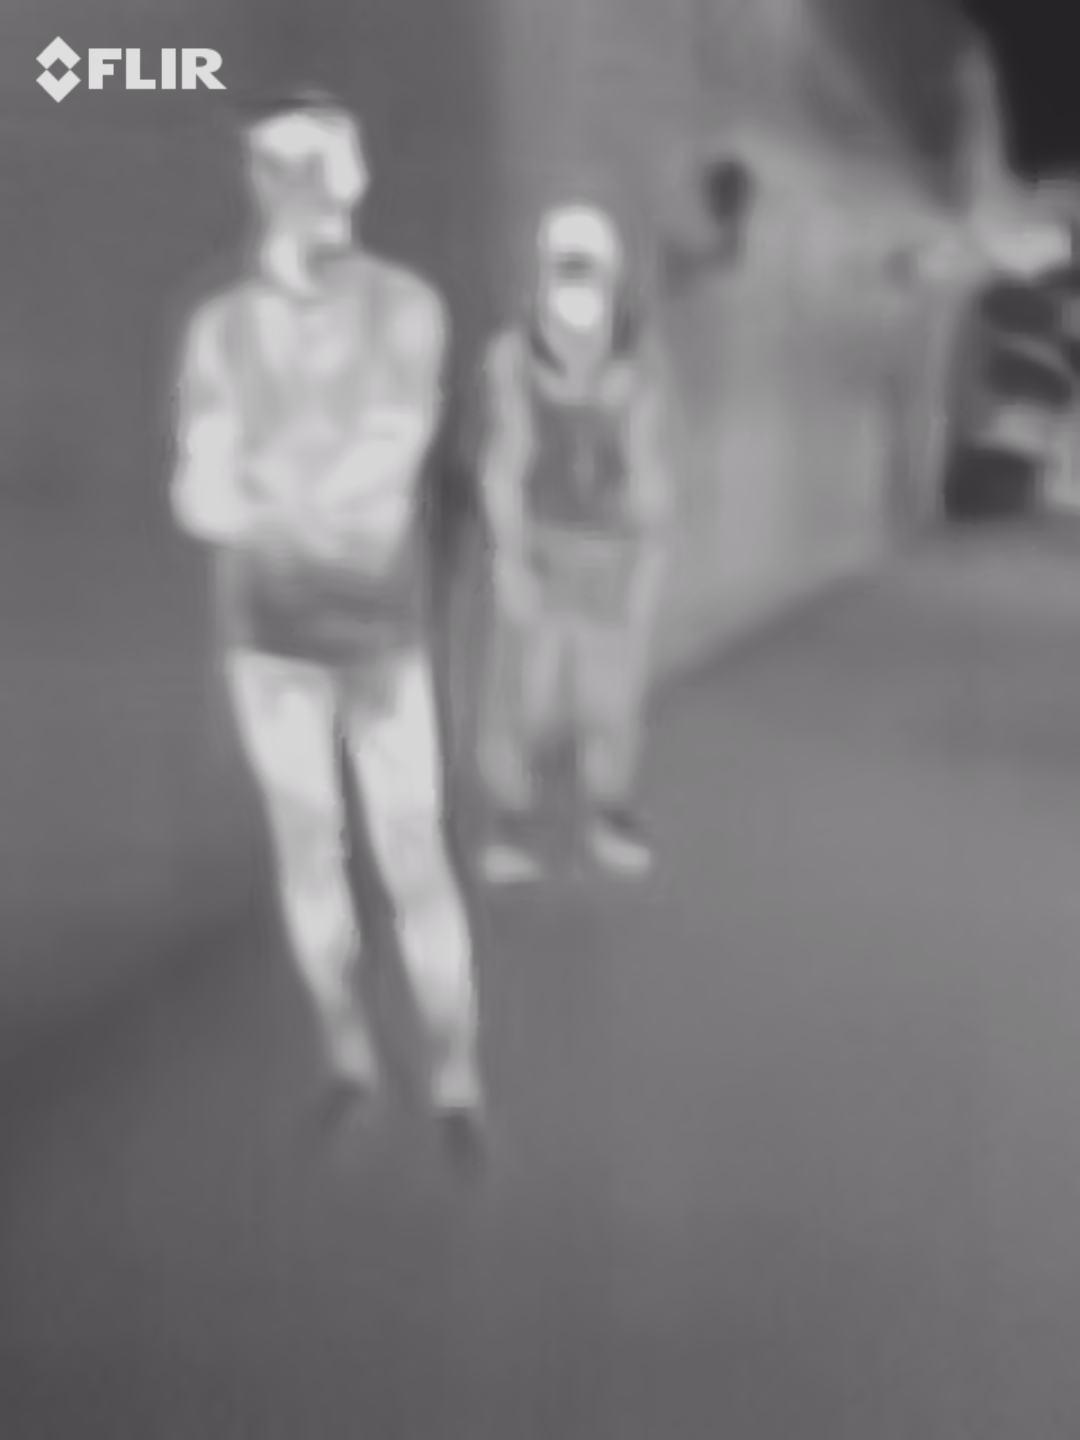head: (230, 80, 376, 259)
